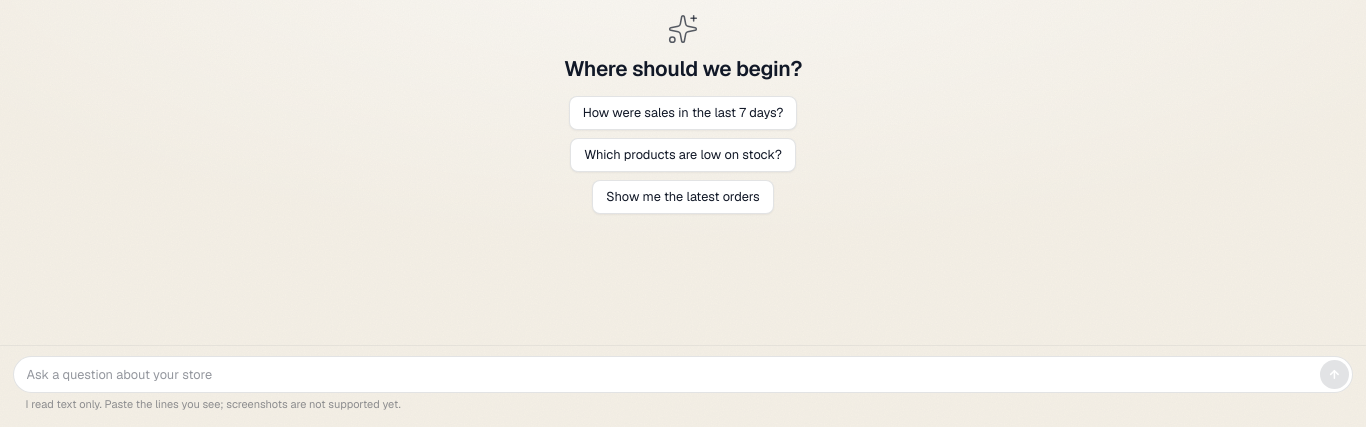
Scenario: AssistantChat › sends what is typed, and clears the box
Type "  Low stock?  " into the field named "Your question" at (670, 374), box [27,360,1314,389]
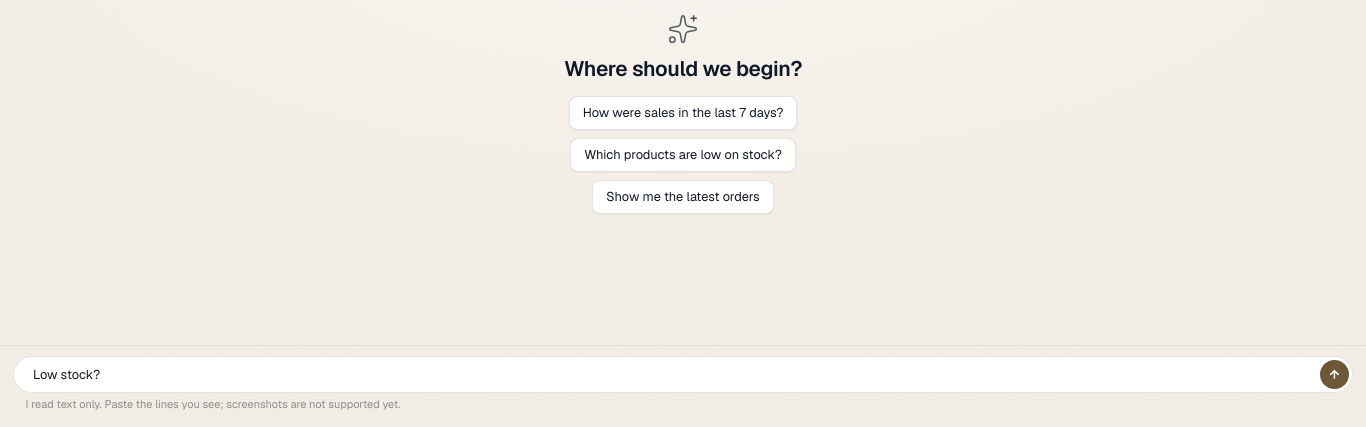
Click the button named "Send" at (1335, 374), box [1320,360,1349,389]
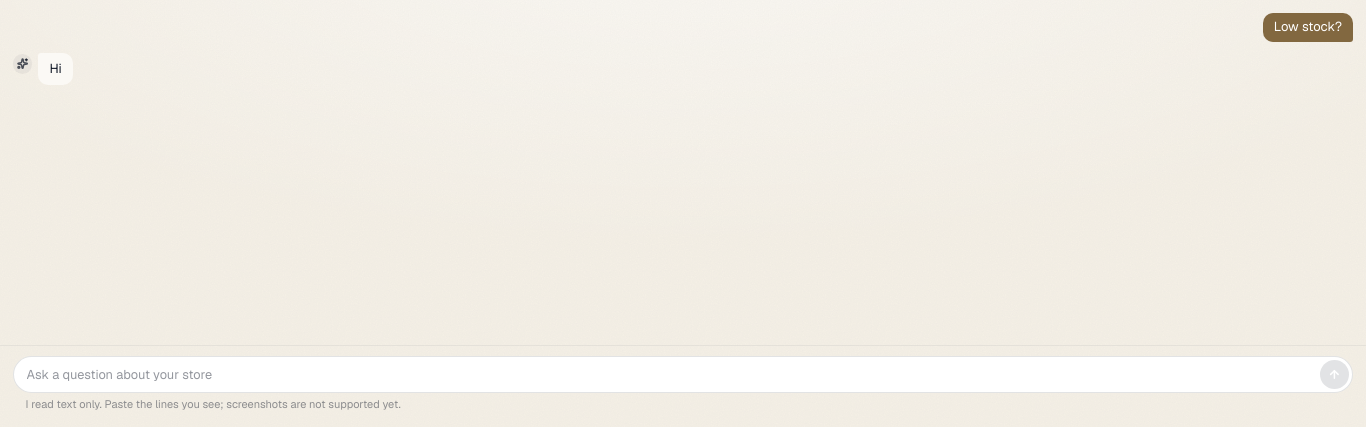
Check: the text "Low stock?" is shown, box [1263,13,1353,42]
Check: the field named "Your question" is empty, box [27,360,1314,389]
